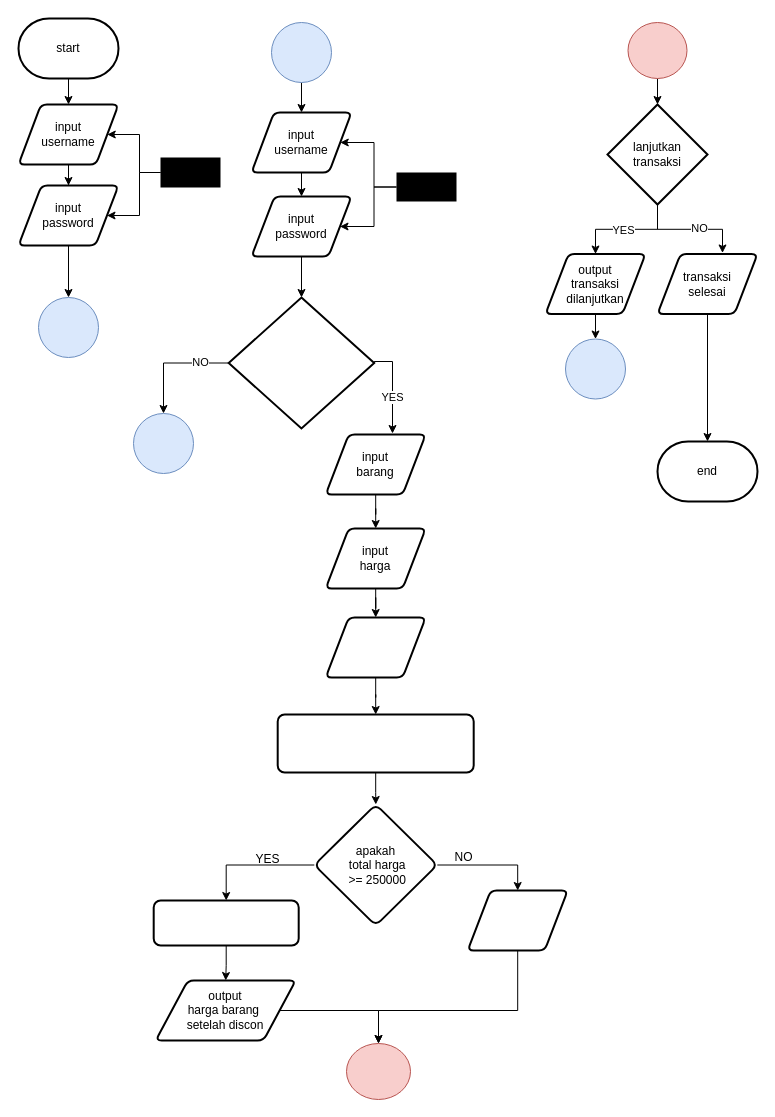
Image size: 775x1117. Some labels were removed from this diagram. Here are the shapes that lost their labels. From the top down, the centre of each, then its label:
At (x=190, y=172): "registrasi akun".
At (x=426, y=186): "login".
At (x=301, y=362): "apakah username dan password sesuai".
At (x=375, y=647): "input jumlah".
At (x=375, y=743): "jumlah barang * harga barang".
At (x=225, y=922): "harga total - harga diskon".
At (x=517, y=920): "output anda tidak mendapat diskon".
